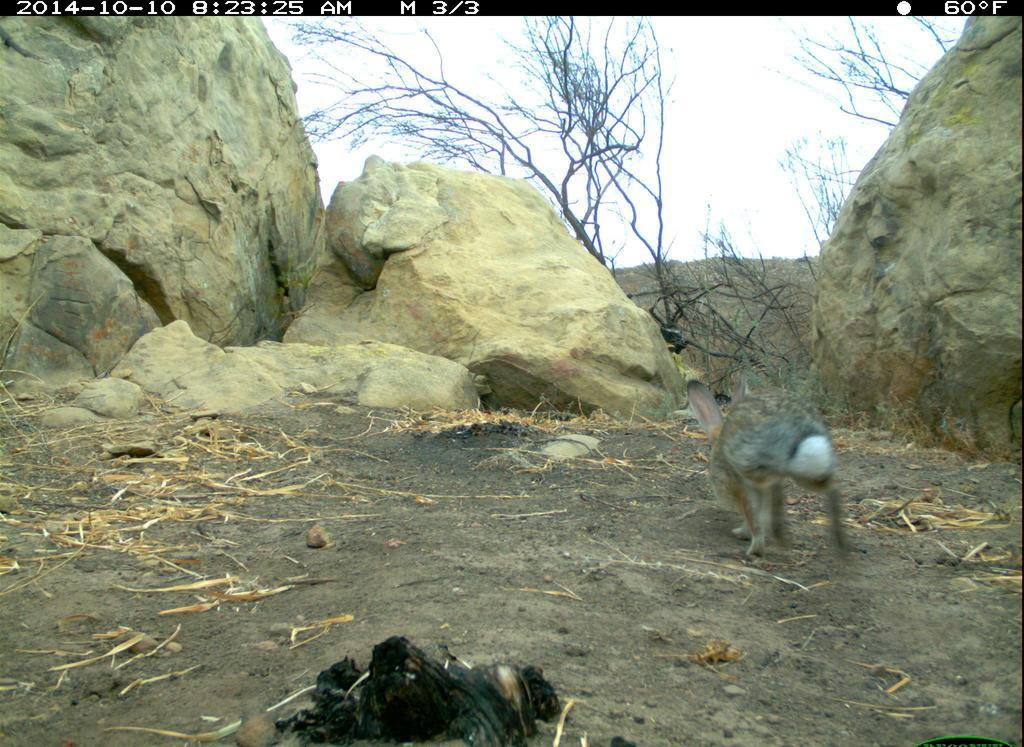rabbit: (681, 368, 868, 575)
